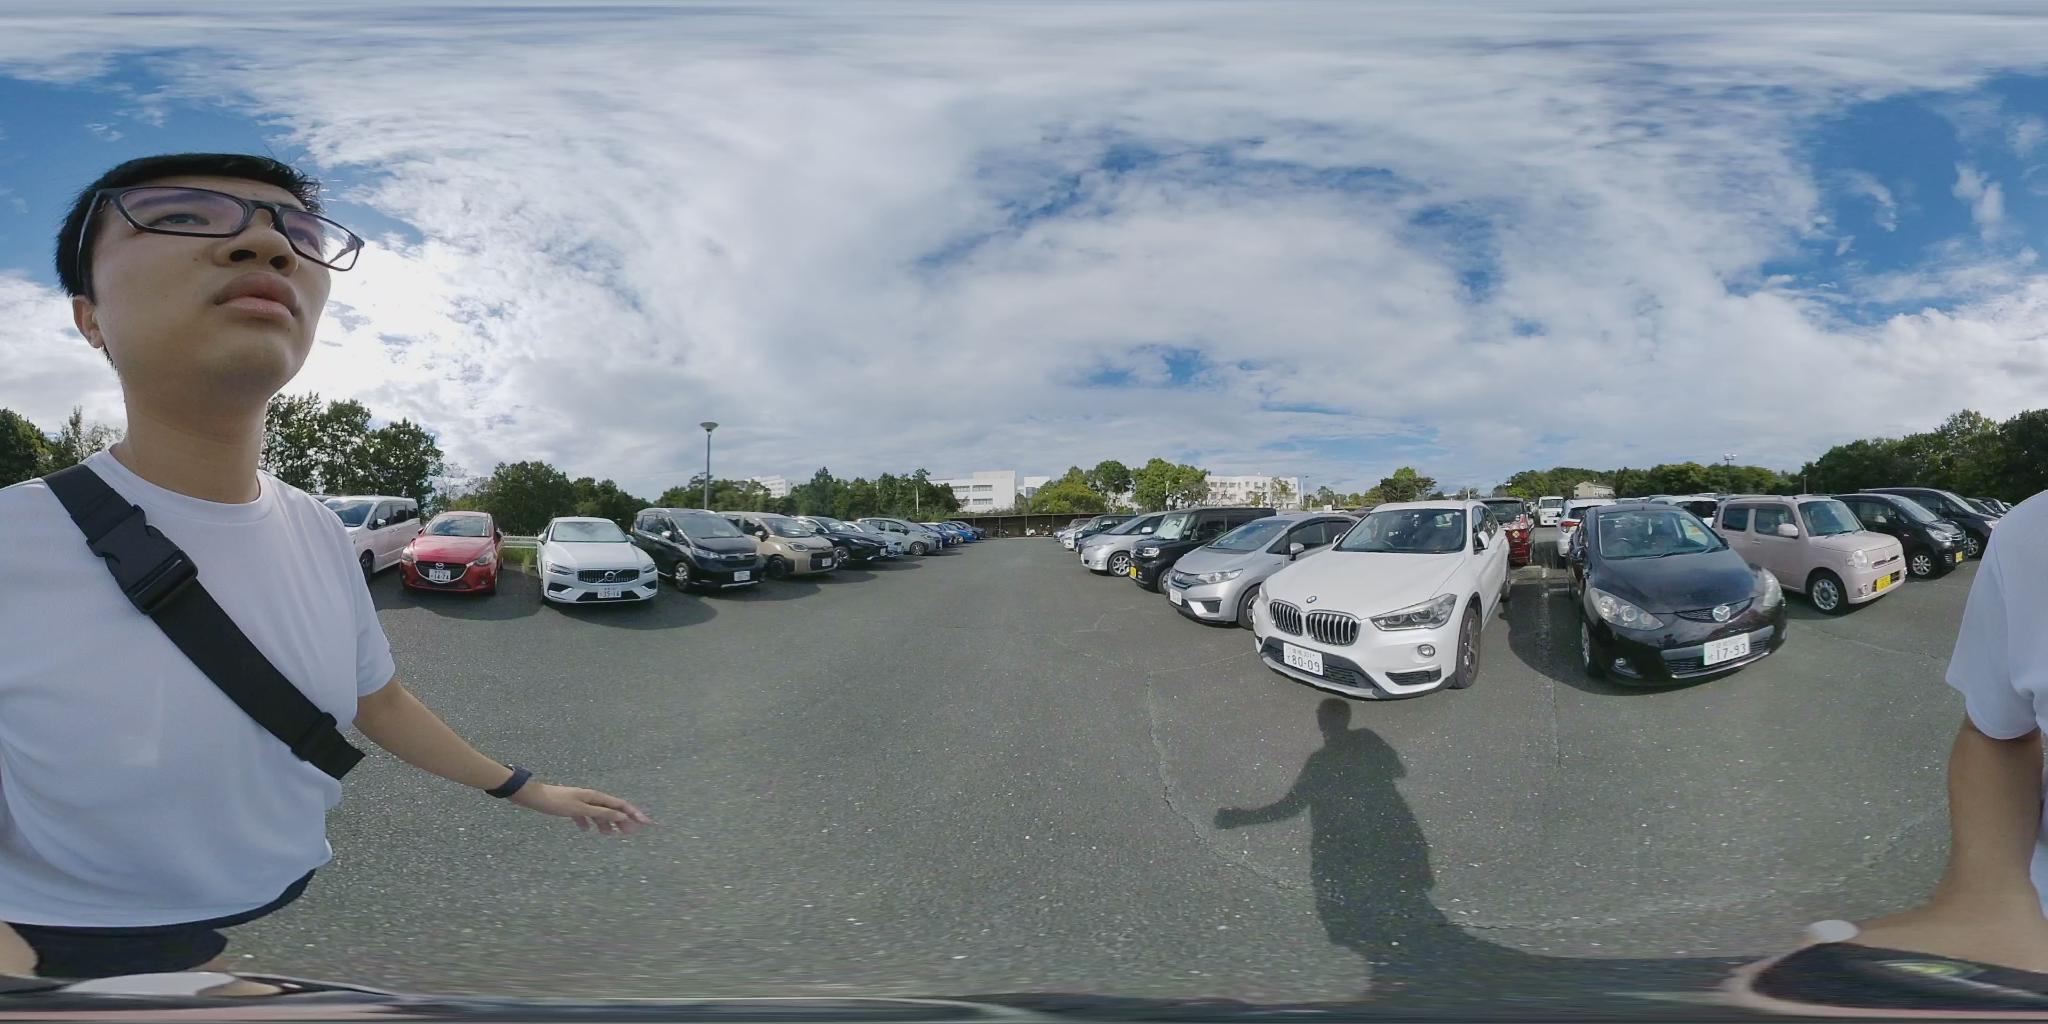car: (1503, 499, 1795, 695), (1247, 499, 1527, 699), (1688, 492, 1919, 610), (1166, 513, 1366, 631), (329, 496, 530, 590), (1074, 508, 1290, 584), (1839, 487, 2000, 568), (636, 509, 784, 592), (539, 519, 675, 606), (325, 496, 435, 576), (401, 512, 509, 592), (737, 516, 856, 575), (923, 524, 986, 549)
